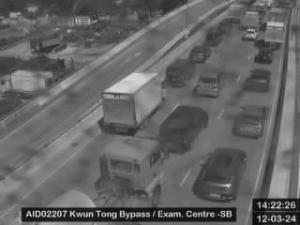truck: (31, 135, 167, 225), (98, 72, 164, 134), (266, 22, 286, 46), (254, 1, 274, 21), (226, 4, 245, 22), (269, 4, 285, 24), (244, 12, 258, 28)
vehicle: (192, 148, 248, 202), (158, 105, 208, 153), (232, 104, 268, 138), (166, 58, 194, 87), (242, 68, 272, 92), (194, 74, 222, 98), (188, 46, 210, 62), (208, 30, 221, 46), (259, 48, 273, 60), (218, 20, 232, 32), (246, 30, 256, 40)
